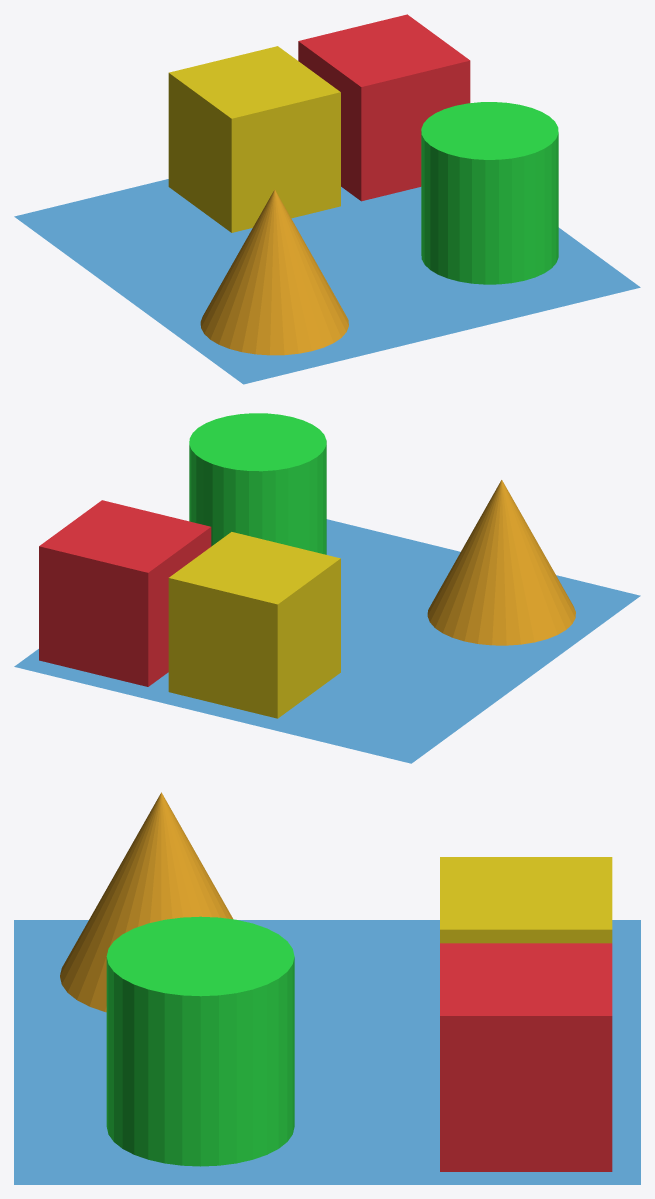
The picture shows the model from 3 angles, top to bottom: view 1: azimuth 30°, elevation 25°; view 2: azimuth 150°, elevation 25°; view 3: azimuth 270°, elevation 25°; orthographic projection. The views are drawn at different scales.
Visible parts, largest first — view 1: Plane, Cube, Cylinder, Cube.001, Cone; view 2: Plane, Cube, Cube.001, Cylinder, Cone; view 3: Plane, Cylinder, Cube.001, Cube, Cone.
Boxes of the visible parts, box(x1,y1,x2,y2) form: Plane: box(14, 179, 640, 384); Cube: box(168, 46, 340, 232); Cylinder: box(421, 102, 558, 284); Cube.001: box(298, 14, 470, 201); Cone: box(200, 189, 348, 355); Plane: box(14, 519, 640, 763); Cube: box(168, 532, 340, 718); Cube.001: box(39, 500, 211, 686); Cylinder: box(189, 413, 326, 554); Cone: box(427, 480, 575, 645); Plane: box(14, 920, 640, 1184); Cylinder: box(106, 916, 294, 1166); Cube.001: box(440, 943, 612, 1171); Cube: box(440, 857, 612, 943); Cone: box(60, 792, 232, 1012).
Size of the model in its own units: 200 by 64.95 by 200.
